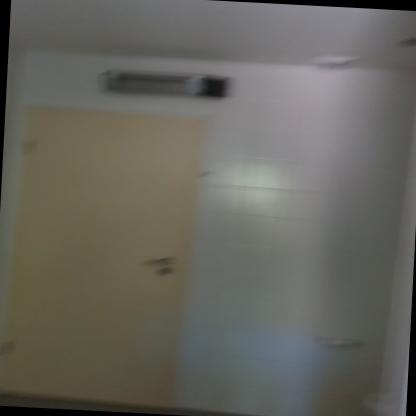closed: (0, 91, 223, 405)
